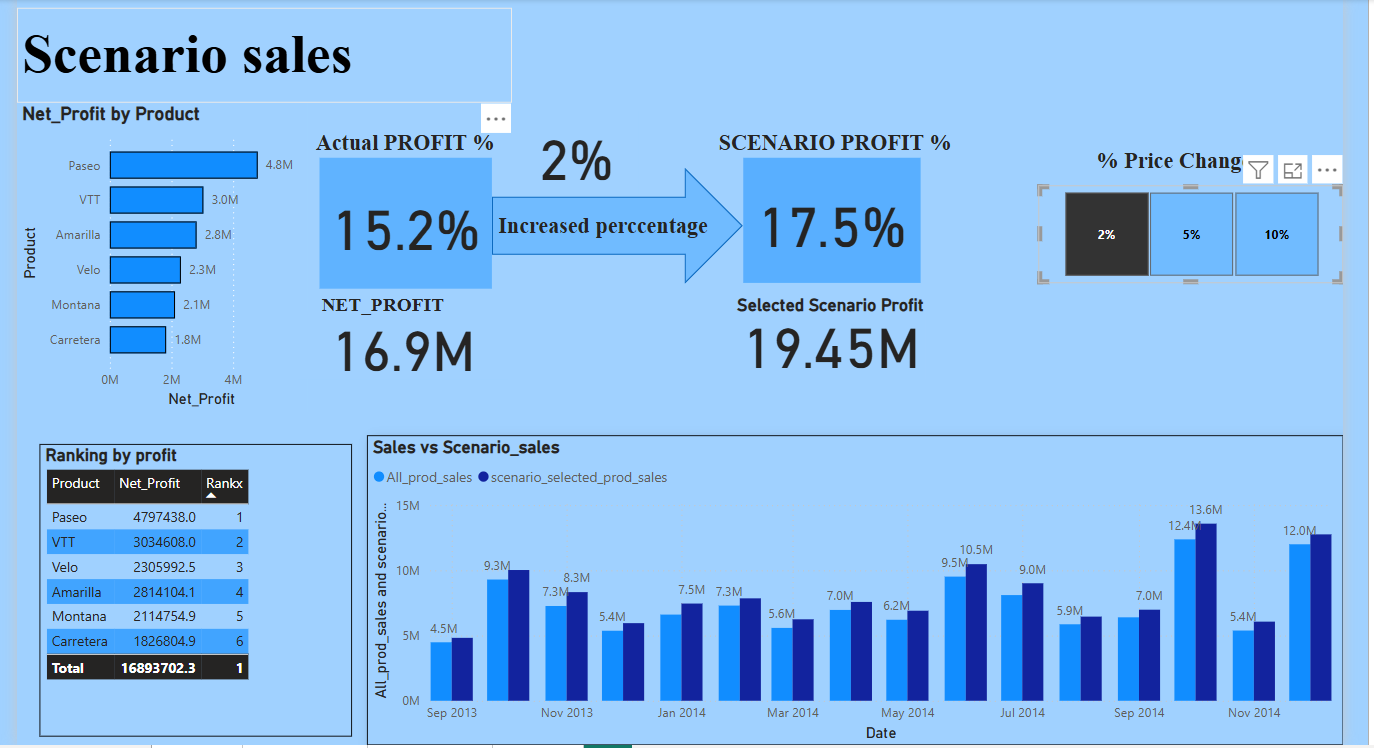

What the dashboard file says about the page in this screenshot:
{"tool":"powerbi","page":{"name":"Dashboard","canvas":[1280,720],"ordinal":1},"visuals":[{"type":"textbox","box":[0,8.4,477.8,91.7],"z":0},{"type":"barChart","fields":{"Category":["Product.Product"],"Y":["Dax_Measures.Net_Profit"]},"box":[0,100.1,281.1,299.2],"z":1000},{"type":"card","fields":{"Values":["Percentage_price.Pricing_change"]},"box":[480.2,108.6,119.4,80.8],"z":2000},{"type":"slicer","fields":{"Values":["Percentage_price.Price_Change"]},"box":[985.7,179.8,294.4,94.1],"z":3000},{"type":"clusteredColumnChart","title":"Sales vs Scenario_sales","fields":{"Y":["Dax_Measures.All_prod_sales","Dax_Measures.scenario_selected_prod_sales"],"Category":["calender.Date"]},"box":[337.8,421,942.2,299.2],"z":4000},{"type":"card","fields":{"Values":["Dax_Measures.Actual_proft%"]},"box":[292,153.2,166.5,126.7],"z":5000},{"type":"card","fields":{"Values":["Dax_Measures.scenario_profit%"]},"box":[700.9,153.2,171.3,120.6],"z":6000},{"type":"textbox","box":[666,121.9,247.3,41],"z":7000},{"type":"textbox","box":[271.4,121.9,206.3,41],"z":8000},{"type":"card","fields":{"Values":["Dax_Measures.Net_Profit"]},"box":[271.4,300.4,202.7,66.4],"z":9000},{"type":"card","fields":{"Values":["Dax_Measures.scenario_selected_profit"]},"box":[694.9,293.2,182.2,74.8],"z":10000},{"type":"textbox","box":[252.1,279.9,206.3,41],"z":11000},{"type":"tableEx","title":"Ranking by profit ","fields":{"Values":["Product.Product","Dax_Measures.Net_Profit","Dax_Measures.Rankx"]},"box":[21.7,429.5,301.6,282.3],"z":12000},{"type":"textbox","box":[1013.4,138.7,206.3,41],"z":13000},{"type":"shape","box":[458.4,162.9,242.5,112.2],"z":14000},{"type":"textbox","box":[684.1,279.9,206.3,41],"z":15000}]}

Visuals, with their boxes on the page's 1280x720 design canvas (x1, y1, x2, y2). These are canvas units, not pixel positions in the 1374x748 screenshot, which may show the page scaled, cropped or inside an application window:
textbox: x1=0 y1=8 x2=478 y2=100
barChart - Product.Product x Dax_Measures.Net_Profit: x1=0 y1=100 x2=281 y2=399
card - Percentage_price.Pricing_change: x1=480 y1=109 x2=600 y2=189
slicer - Percentage_price.Price_Change: x1=986 y1=180 x2=1280 y2=274
"Sales vs Scenario_sales" clusteredColumnChart: x1=338 y1=421 x2=1280 y2=720
card - Dax_Measures.Actual_proft%: x1=292 y1=153 x2=458 y2=280
card - Dax_Measures.scenario_profit%: x1=701 y1=153 x2=872 y2=274
textbox: x1=666 y1=122 x2=913 y2=163
textbox: x1=271 y1=122 x2=478 y2=163
card - Dax_Measures.Net_Profit: x1=271 y1=300 x2=474 y2=367
card - Dax_Measures.scenario_selected_profit: x1=695 y1=293 x2=877 y2=368
textbox: x1=252 y1=280 x2=458 y2=321
"Ranking by profit " tableEx: x1=22 y1=430 x2=323 y2=712
textbox: x1=1013 y1=139 x2=1220 y2=180
shape: x1=458 y1=163 x2=701 y2=275
textbox: x1=684 y1=280 x2=890 y2=321
